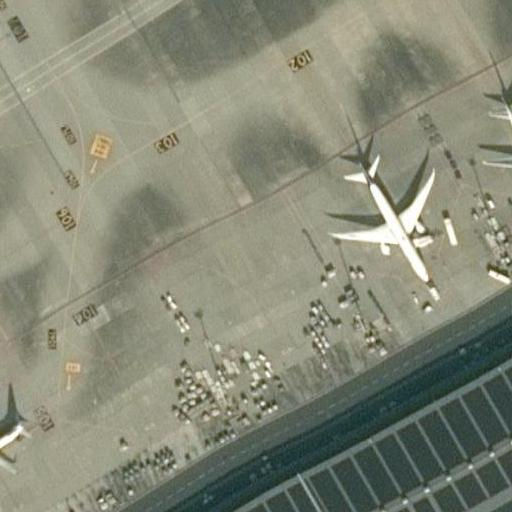Aircraft: (330, 153, 443, 273), (481, 82, 512, 200), (0, 410, 26, 471)
